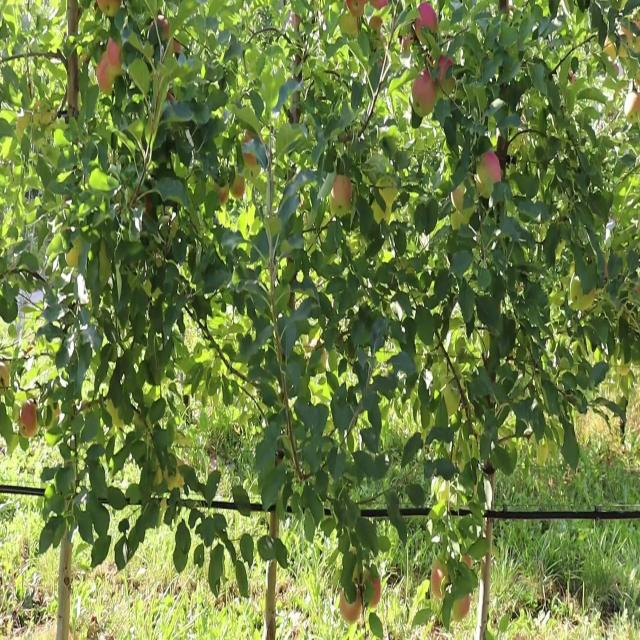apple: (96, 38, 121, 93), (411, 69, 438, 117), (476, 151, 501, 198), (340, 0, 366, 36), (330, 176, 352, 217), (414, 2, 438, 38), (96, 51, 115, 96), (130, 182, 154, 216), (19, 400, 39, 440), (436, 53, 455, 93), (340, 591, 362, 624), (241, 131, 259, 169), (241, 133, 259, 169), (430, 560, 446, 600), (149, 13, 170, 41), (106, 38, 121, 71), (452, 596, 470, 622), (624, 91, 640, 120), (96, 0, 121, 18), (451, 182, 466, 212), (340, 11, 358, 36), (164, 469, 184, 491), (346, 0, 368, 18), (369, 578, 381, 606), (231, 176, 245, 199), (0, 360, 10, 392), (604, 38, 616, 62), (401, 31, 414, 52), (216, 184, 230, 203), (290, 11, 301, 31), (461, 553, 472, 569)
